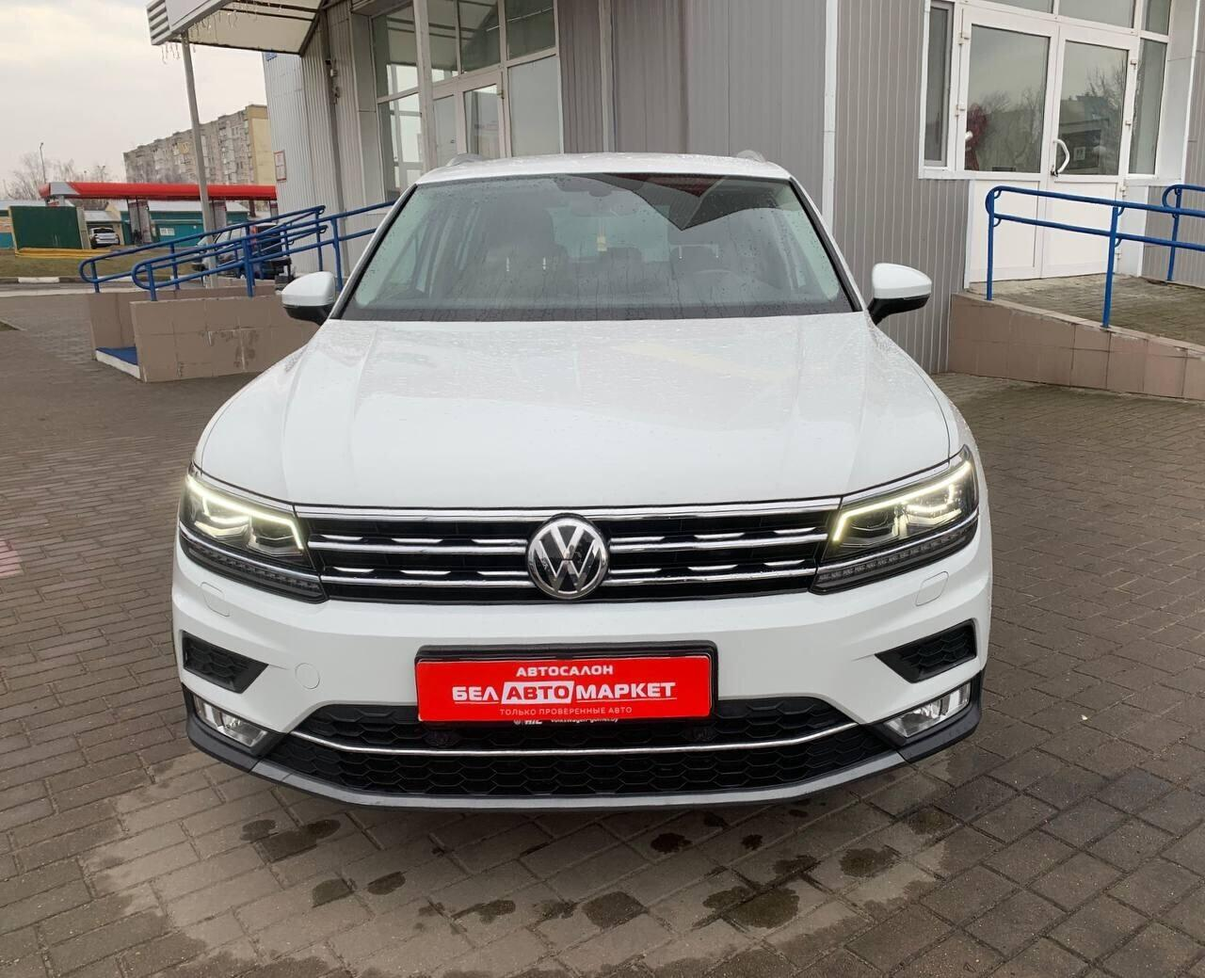Tiguan_2016-2021: (161, 151, 1005, 805)
